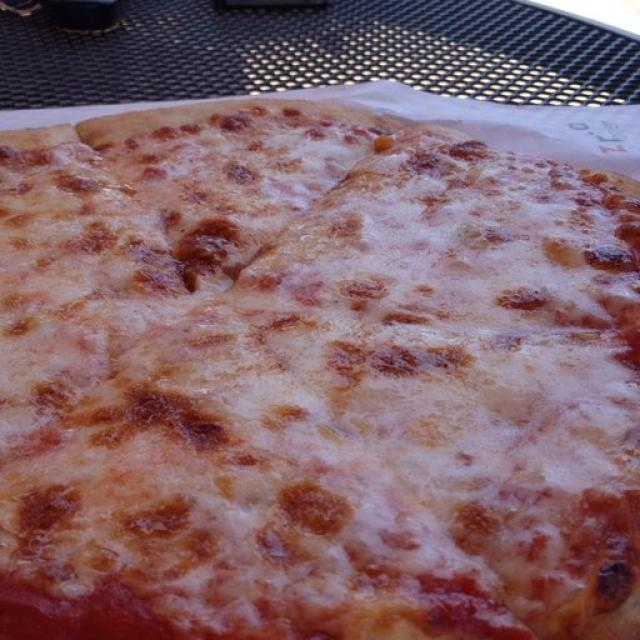Pizza: (0, 100, 640, 640)
